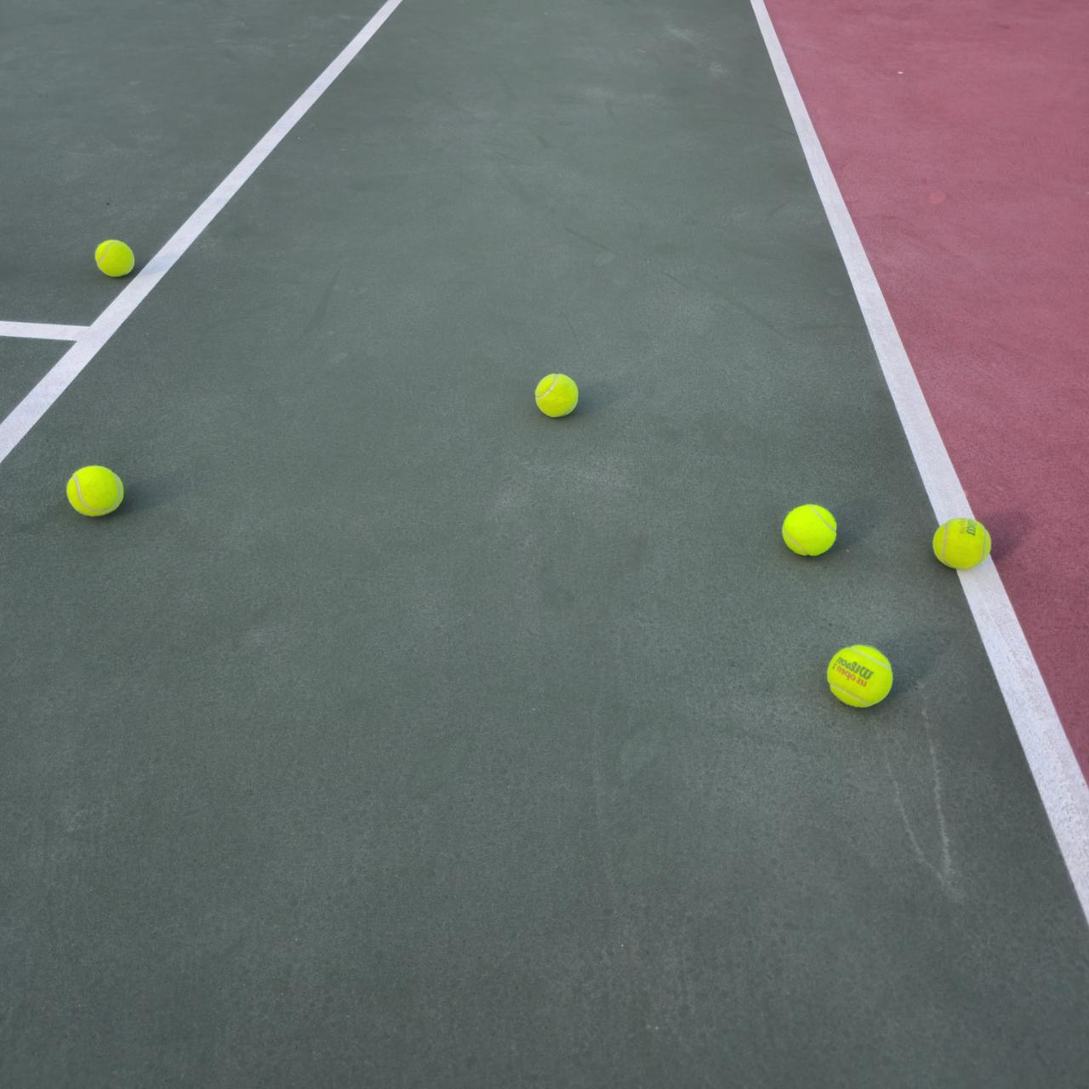tennis-ball: (826, 641, 895, 709), (781, 500, 840, 557), (66, 462, 127, 517), (932, 516, 993, 570), (534, 370, 581, 418), (94, 237, 137, 277)
